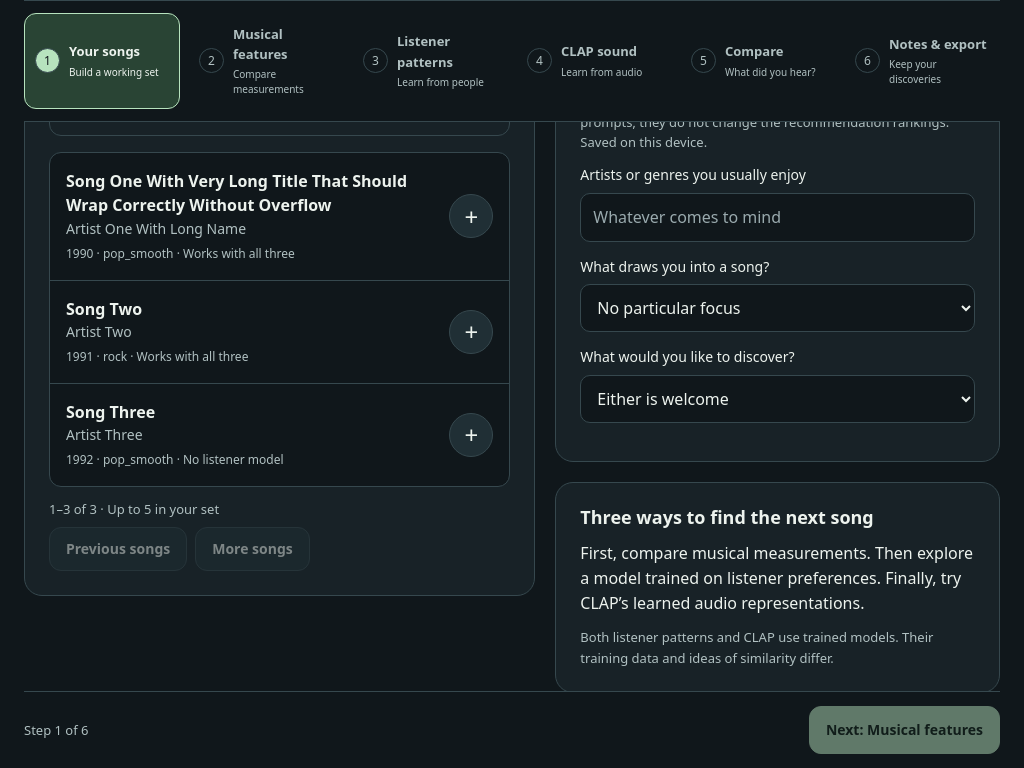
Shared song listening workshop › unsupported song is kept in the set, blocks only listener generation, and is never substituted
The image size is (1024, 768).
(page scrolled)
Step 1. Click the button named "Add " → (471, 435), box [449,413,493,457]
(page scrolled)
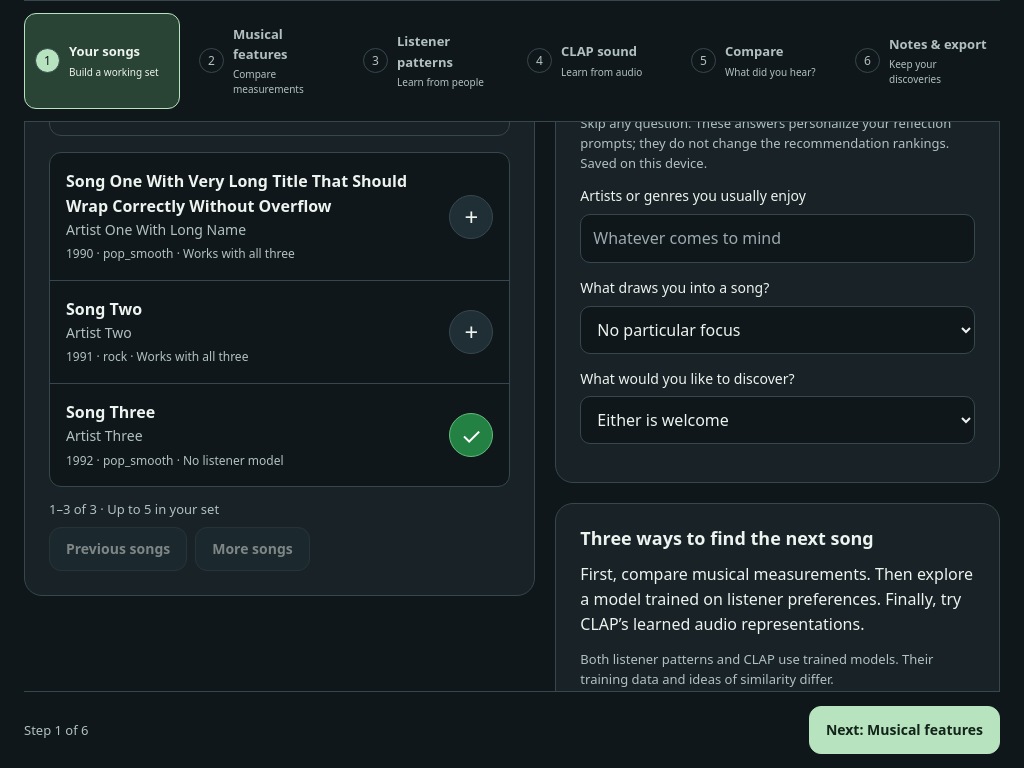
Step 2. Click the button "3 Listener patterns Learn from people" → (430, 61), box [352,13,508,109]
(page scrolled)
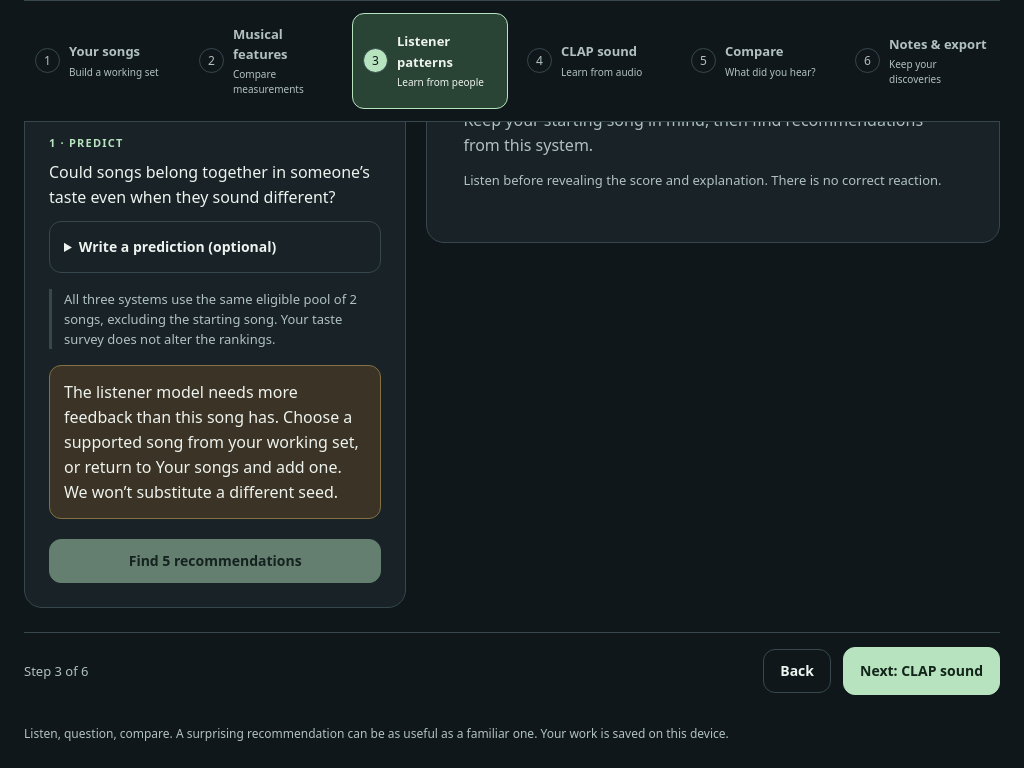
Result: the button "Find 5 recommendations" is disabled at [49,540,381,584]
Result: the text "We won’t substitute" is shown at [64,382,359,503]
Step 3. Click the button "4 CLAP sound Learn from audio" → (594, 61), box [516,13,672,109]
(page scrolled)
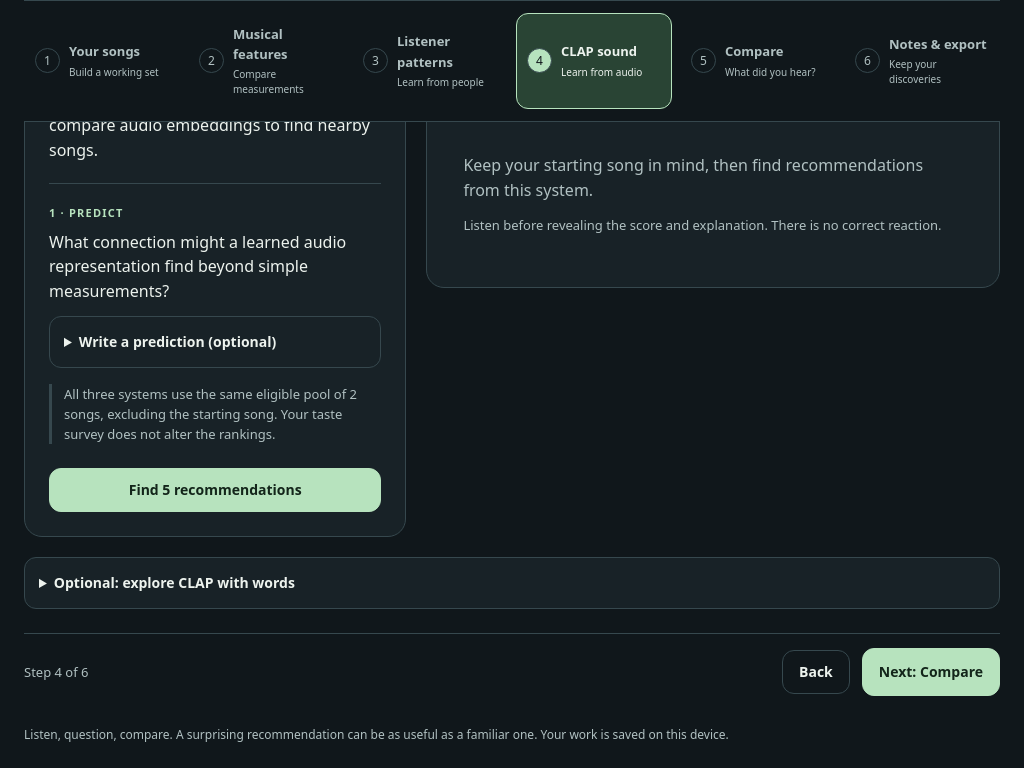
Result: the button "Find 5 recommendations" is enabled
Step 4. Click the button "Find 5 recommendations" → (215, 490), box [49,468,381,512]
(page scrolled)
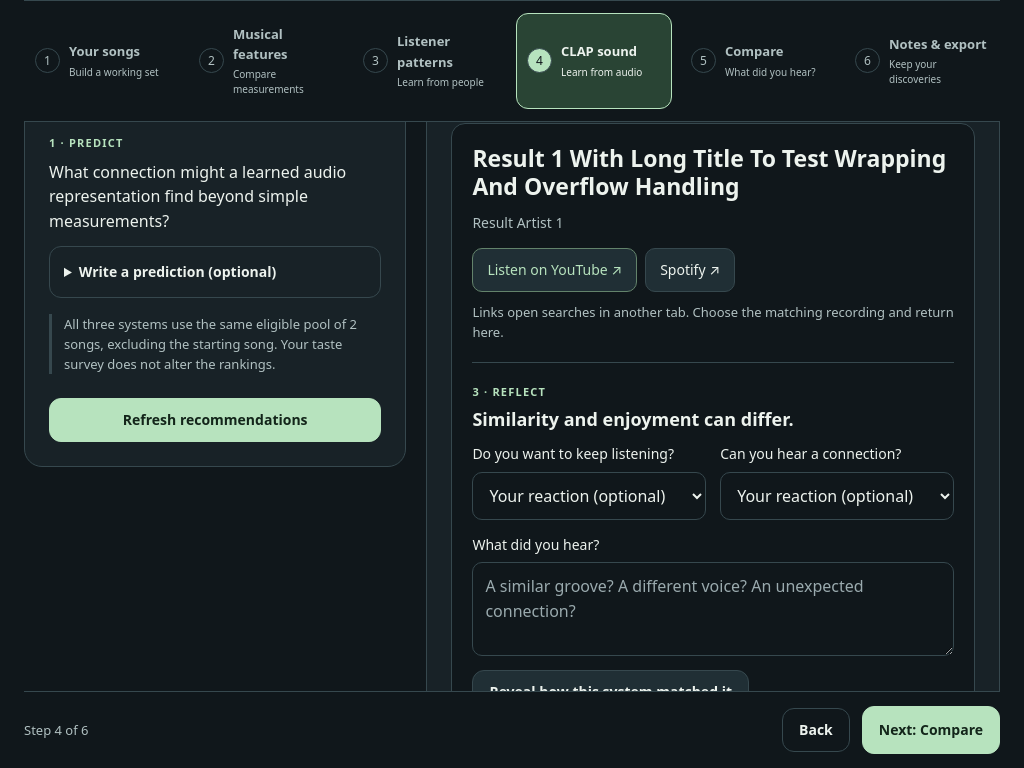
Result: the heading "Result 1 With Long Title" is shown at [472,144,954,200]
